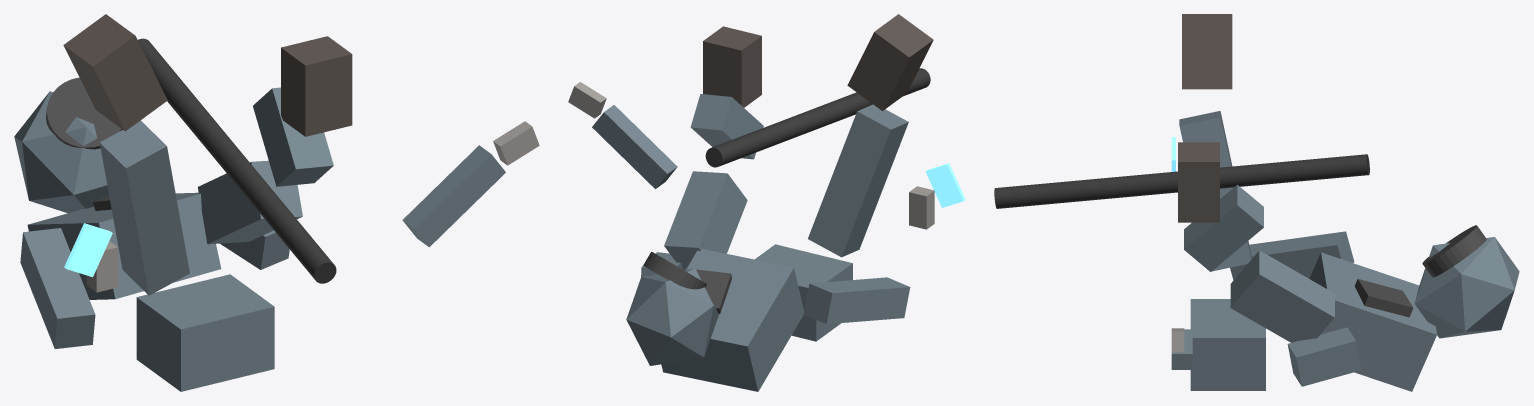
The model's file is casualty_slumped_wall.glb.
The picture shows the model from 3 angles, left to right: view 1: azimuth 30°, elevation 25°; view 2: azimuth 150°, elevation 25°; view 3: azimuth 270°, elevation 25°; orthographic projection. The views are drawn at different scales.
Parts seen in each view (by area): view 1: Cube, Cube.003, Cylinder.001, Cube.004, Icosphere, Cube.007, Cube.008, Cube.001, Cube.005, Cube.012, Cube.006, Cylinder (+4 smaller); view 2: Cube.001, Cube.003, Icosphere, Cube.005, Cube.004, Cube.008, Cube.007, Cylinder.001, Cube, Cube.012, Cube.006, Cube.010 (+4 smaller); view 3: Cube.001, Cylinder.001, Icosphere, Cube, Cube.005, Cube.004, Cube.006, Cube.007, Cube.011, Cube.008, Cube.003, Cylinder (+2 smaller).
Part boxes in pixels (x1,y1,x2,y2): Cube: (136, 274, 274, 391); Cube.003: (99, 120, 189, 295); Cylinder.001: (138, 38, 336, 283); Cube.004: (63, 14, 167, 131); Icosphere: (14, 91, 108, 212); Cube.007: (281, 36, 352, 136); Cube.008: (20, 228, 95, 348); Cube.001: (27, 192, 221, 299); Cube.005: (197, 160, 302, 244); Cube.012: (402, 145, 505, 247); Cube.006: (253, 87, 333, 186); Cylinder: (46, 77, 122, 149); Cube.001: (661, 249, 803, 391); Cube.003: (808, 104, 908, 257); Icosphere: (626, 268, 718, 365); Cube.005: (664, 171, 747, 269); Cube.004: (847, 14, 933, 110); Cube.008: (803, 277, 910, 324); Cube.007: (703, 26, 761, 107); Cylinder.001: (705, 68, 930, 167); Cube: (755, 244, 852, 341); Cube.012: (592, 105, 677, 188); Cube.006: (690, 94, 763, 159); Cube.010: (925, 163, 965, 207); Cube.001: (1309, 252, 1436, 391); Cylinder.001: (994, 154, 1369, 208); Icosphere: (1414, 237, 1519, 338); Cube: (1190, 299, 1265, 390); Cube.005: (1230, 250, 1334, 342); Cube.004: (1182, 14, 1232, 89); Cube.006: (1184, 184, 1263, 271); Cube.007: (1178, 142, 1219, 222); Cube.011: (1287, 327, 1361, 386); Cube.008: (1230, 231, 1354, 280); Cube.003: (1179, 111, 1251, 271); Cylinder: (1422, 225, 1486, 277).
Bounding box in the file's own units: 1.11 × 0.8348 × 1.25.
